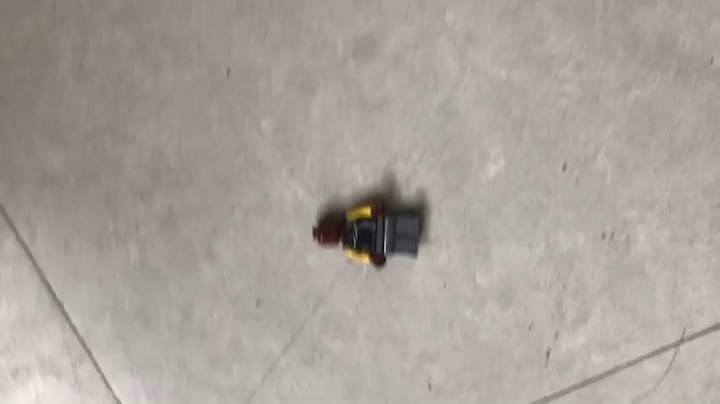people: (313, 194, 425, 271)
